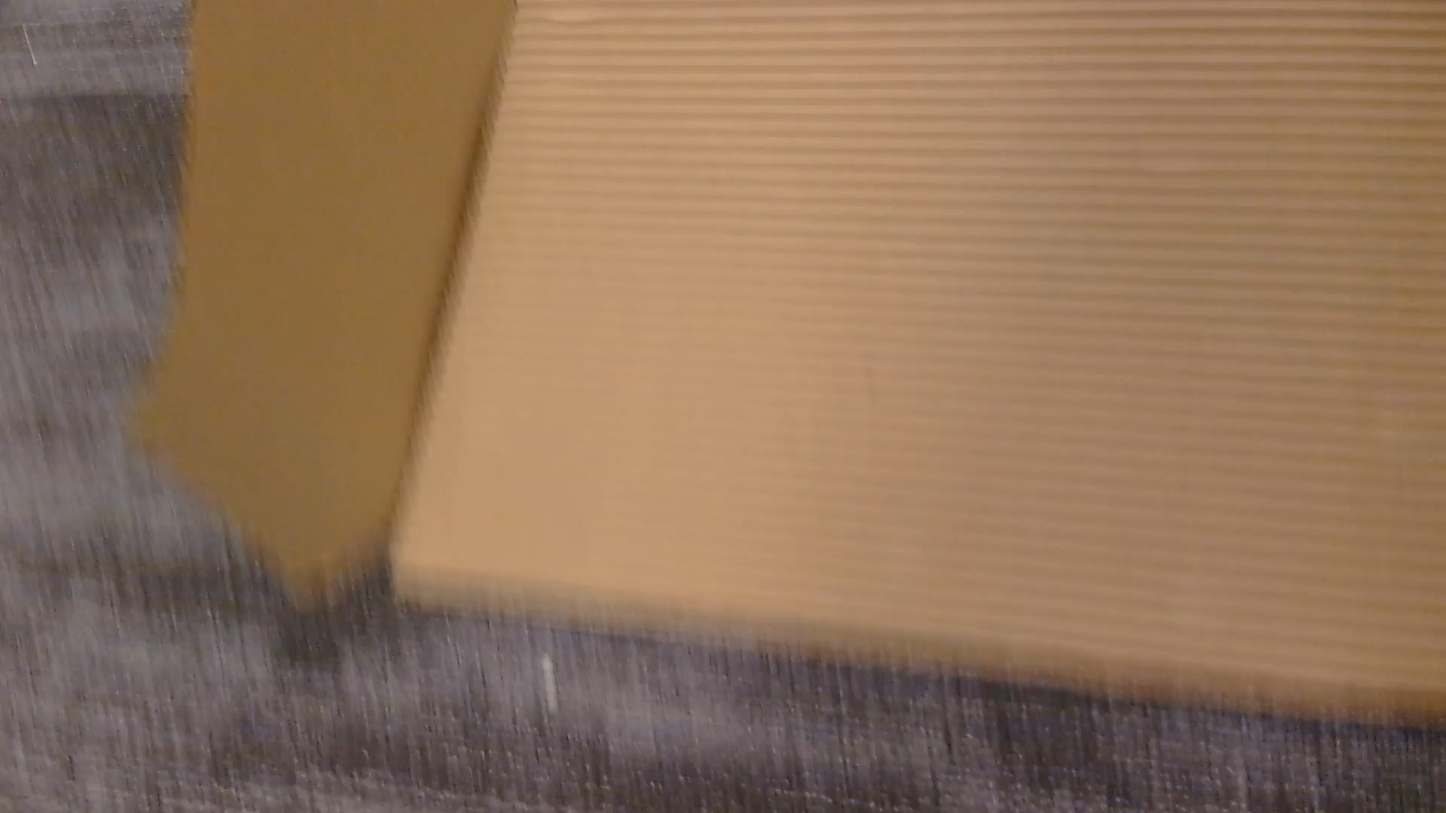Ramp: (135, 0, 1445, 719)
